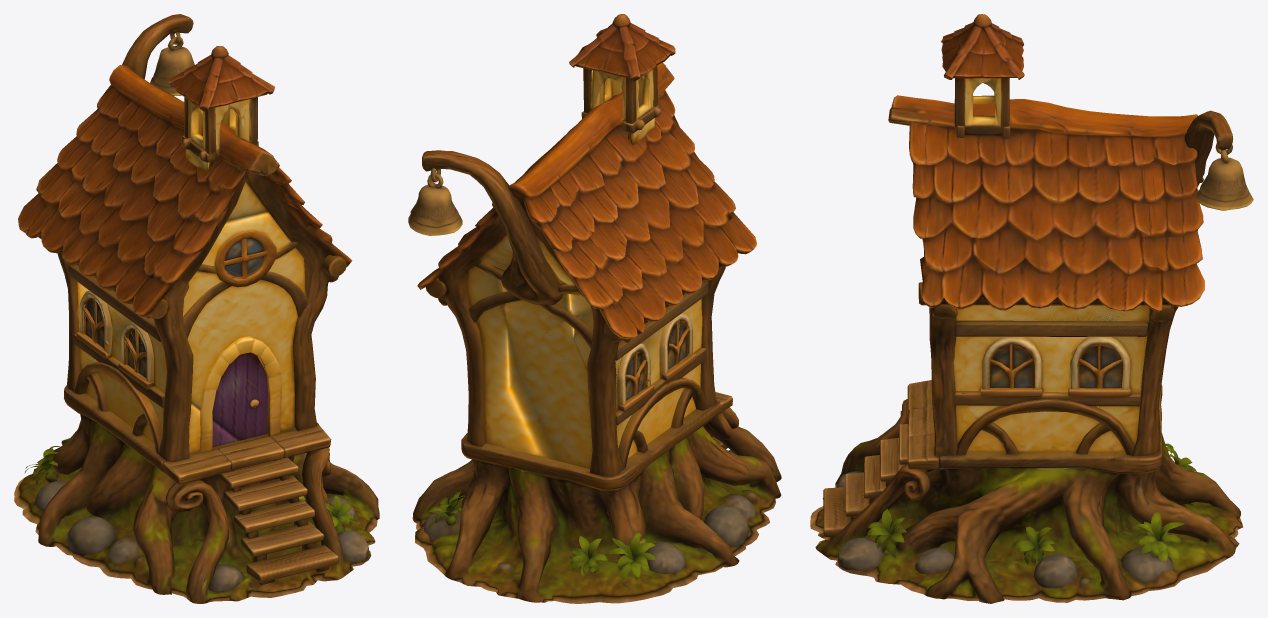
Rendered from school.glb.
3 renders of one model, left to right at view 1: azimuth 30°, elevation 25°; view 2: azimuth 150°, elevation 25°; view 3: azimuth 270°, elevation 25°, orthographic. The views are drawn at different scales.
Parts seen in each view (by area): view 1: geometry_0; view 2: geometry_0; view 3: geometry_0.
Part boxes in pixels (x1,y1,x2,y2): geometry_0: [14, 14, 379, 603]; geometry_0: [408, 14, 781, 603]; geometry_0: [810, 14, 1253, 603].
Size of the model in its own units: 0.606 by 0.9541 by 0.7456.
Materials: 1 (1 with a texture image).
